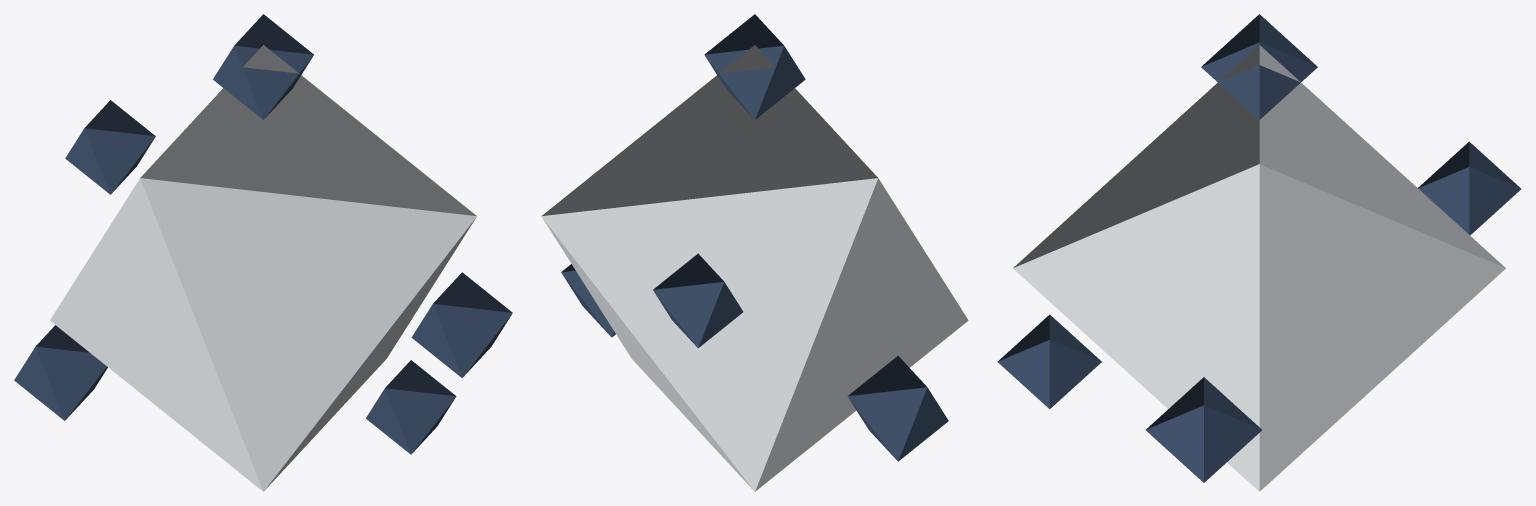
File: minglora_soccer_ball.gltf
The picture shows the model from 3 angles, left to right: view 1: azimuth 30°, elevation 25°; view 2: azimuth 150°, elevation 25°; view 3: azimuth 270°, elevation 25°; orthographic projection.
Visible parts, largest first — view 1: minglora_soccer_ball_0, minglora_soccer_ball_2, minglora_soccer_ball_1, minglora_soccer_ball_3, minglora_soccer_ball_4, minglora_soccer_ball_5; view 2: minglora_soccer_ball_0, minglora_soccer_ball_3, minglora_soccer_ball_1, minglora_soccer_ball_5, minglora_soccer_ball_2; view 3: minglora_soccer_ball_0, minglora_soccer_ball_2, minglora_soccer_ball_1, minglora_soccer_ball_4, minglora_soccer_ball_5.
Part boxes in pixels (bbox=[...]): minglora_soccer_ball_0: bbox=[50, 45, 476, 491]; minglora_soccer_ball_2: bbox=[411, 272, 512, 377]; minglora_soccer_ball_1: bbox=[213, 14, 313, 119]; minglora_soccer_ball_3: bbox=[14, 325, 107, 420]; minglora_soccer_ball_4: bbox=[366, 360, 456, 454]; minglora_soccer_ball_5: bbox=[65, 100, 155, 194]; minglora_soccer_ball_0: bbox=[541, 45, 968, 491]; minglora_soccer_ball_3: bbox=[847, 356, 948, 461]; minglora_soccer_ball_1: bbox=[704, 14, 805, 119]; minglora_soccer_ball_5: bbox=[653, 253, 743, 348]; minglora_soccer_ball_2: bbox=[561, 264, 615, 337]; minglora_soccer_ball_0: bbox=[1013, 45, 1505, 491]; minglora_soccer_ball_2: bbox=[1145, 377, 1261, 482]; minglora_soccer_ball_1: bbox=[1201, 14, 1317, 119]; minglora_soccer_ball_4: bbox=[997, 314, 1101, 409]; minglora_soccer_ball_5: bbox=[1418, 141, 1520, 235].
Size of the model in its own units: 1.66 by 1.71 by 1.7.
